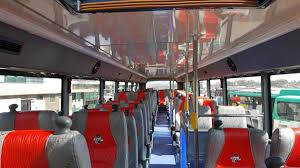seat: (78, 105, 133, 163)
